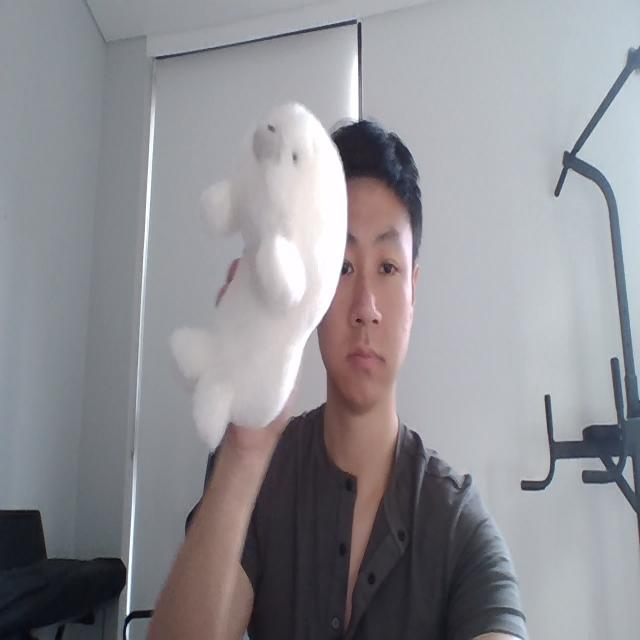seal_bb: (173, 101, 348, 452)
